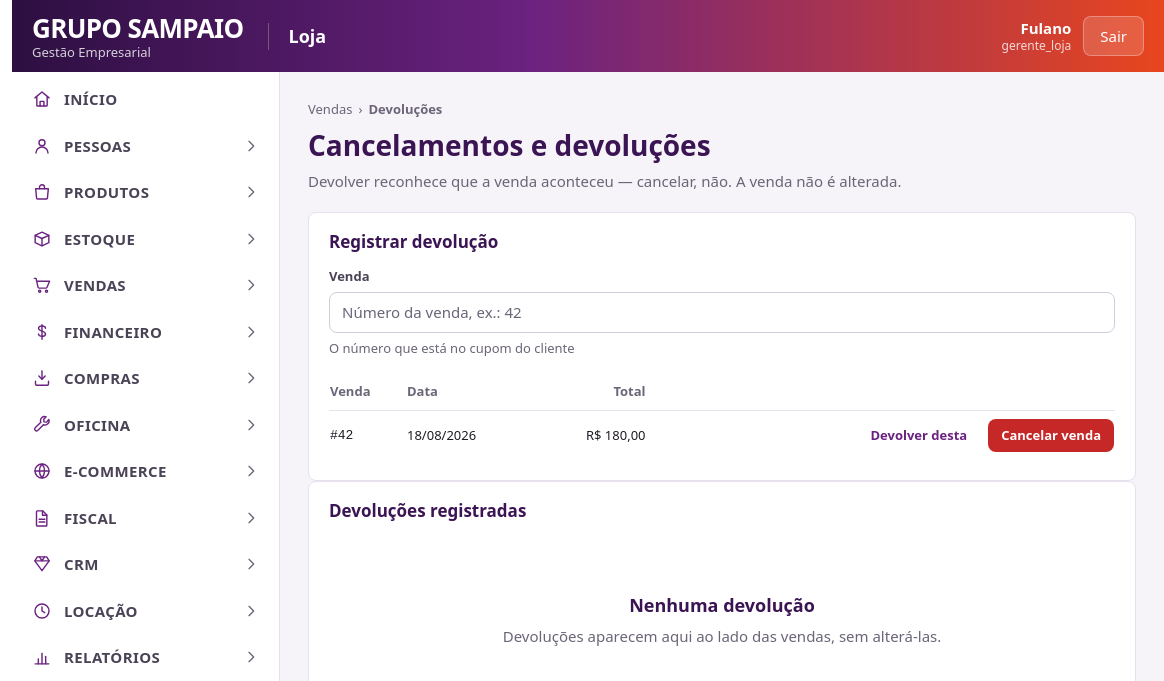
Test: o dinheiro sai da gaveta do caixa deste computador (GAP-PRD-161) › a recusa do servidor sem gaveta aberta aparece com as palavras dele
This screenshot has width=1164, height=681.
Click the button "Devolver desta". click: {"x": 919, "y": 435}
box: [858, 418, 980, 452]
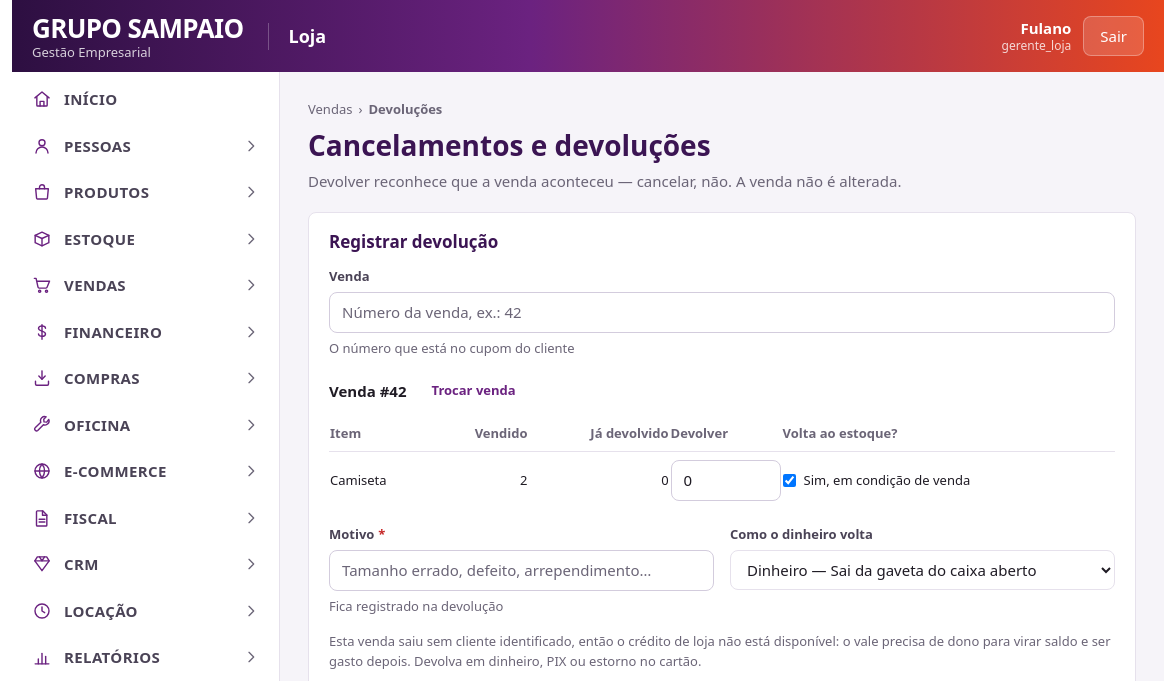
Expected: the text "Camiseta" is shown, [329, 452, 432, 508]
Replace the text in the number field named "Devolver quantos de Camiseta" with "1". click: {"x": 726, "y": 480}
box: [671, 460, 781, 500]
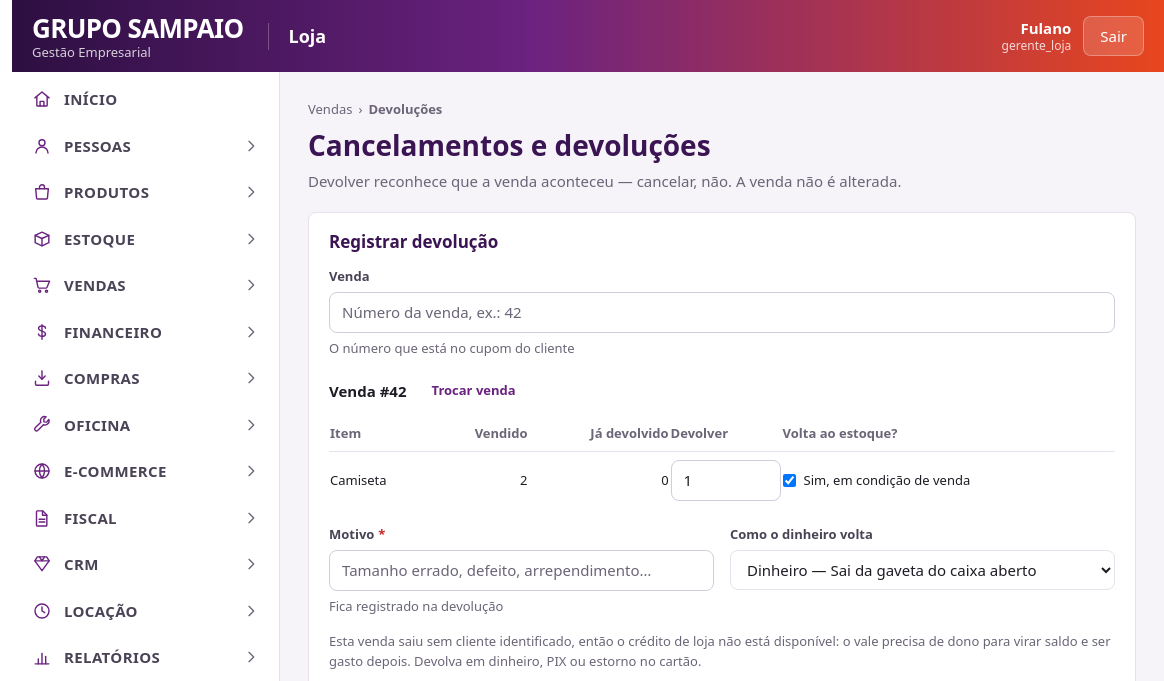
Type "Tamanho errado" into the field labelled "Motivo*". click: {"x": 522, "y": 570}
box: [329, 550, 714, 590]
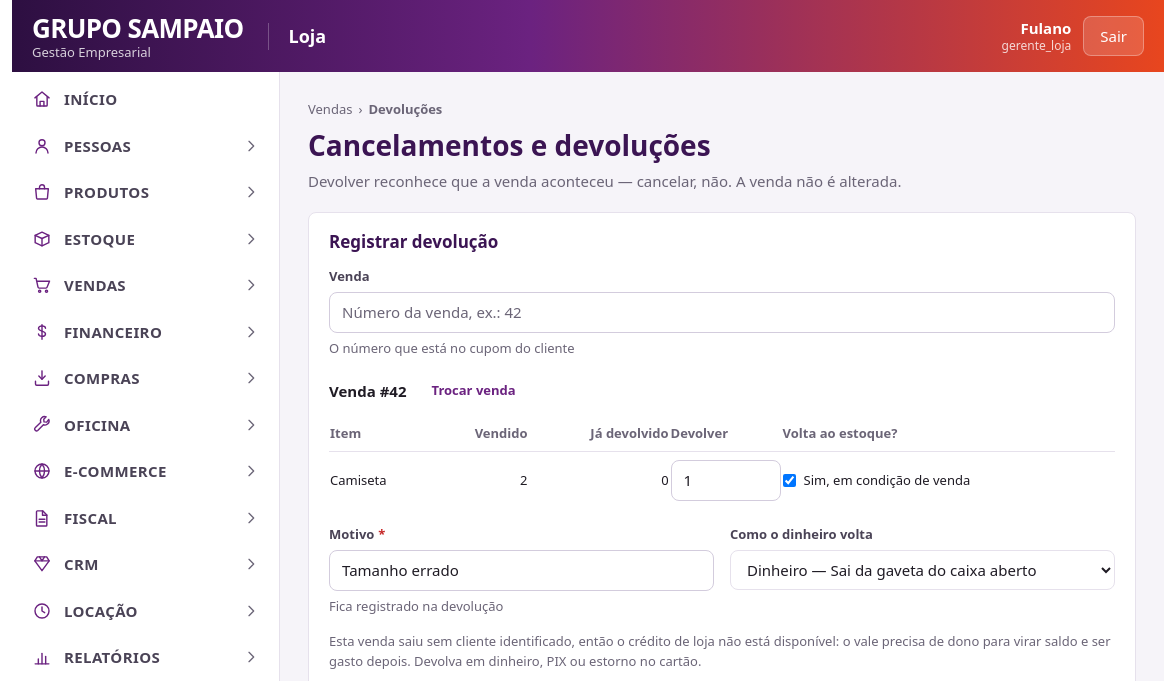
Select "Dinheiro — Sai da gaveta do caixa aberto" in the dropdown labelled "Como o dinheiro volta". click: {"x": 922, "y": 570}
box: [730, 550, 1115, 590]
(page scrolled)
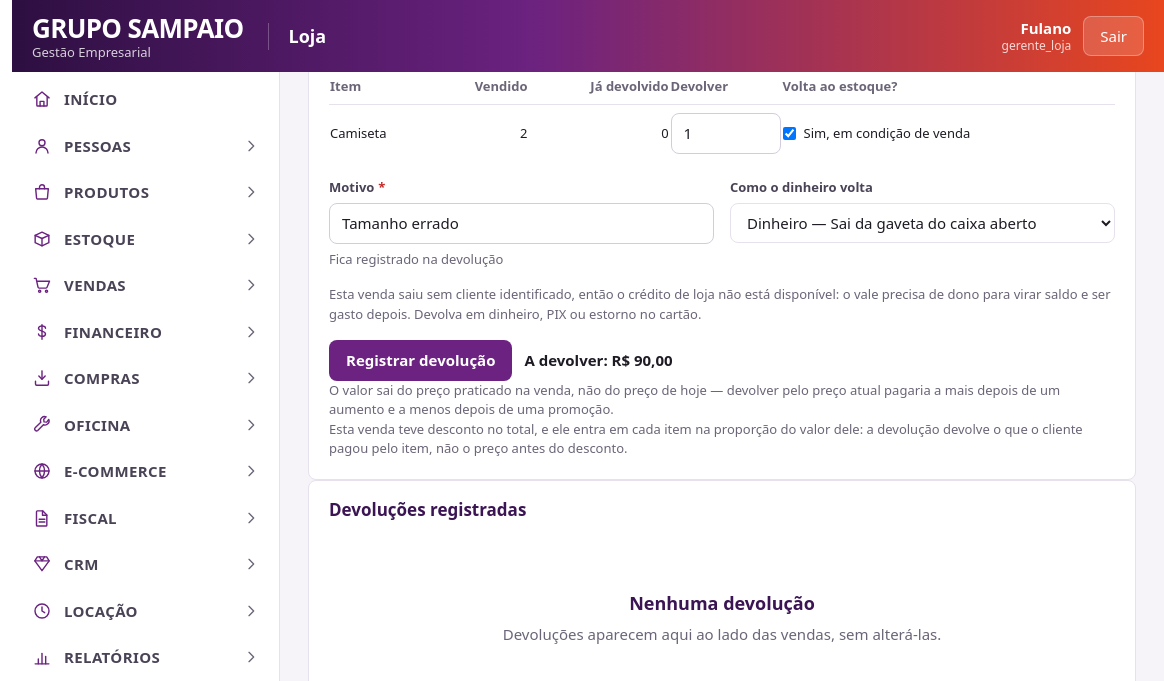
Click the button "Registrar devolução". click: {"x": 421, "y": 360}
box: [329, 340, 512, 380]
(page scrolled)
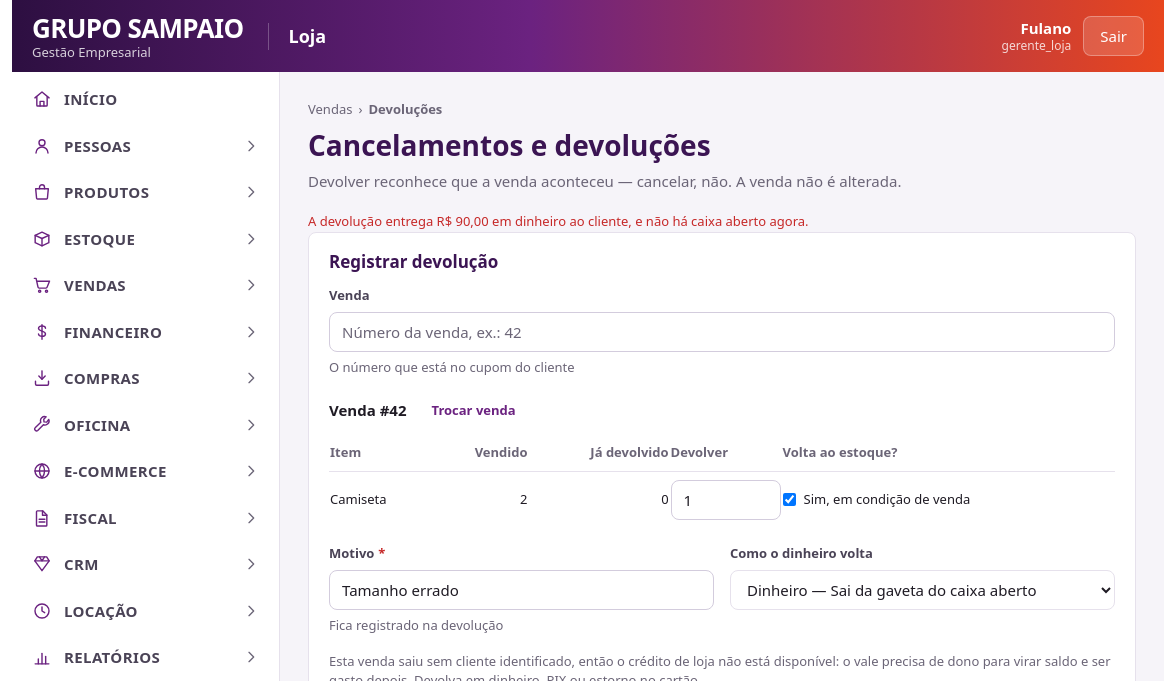
Expected: the text "não há caixa aberto agora" is shown, [308, 212, 808, 230]
